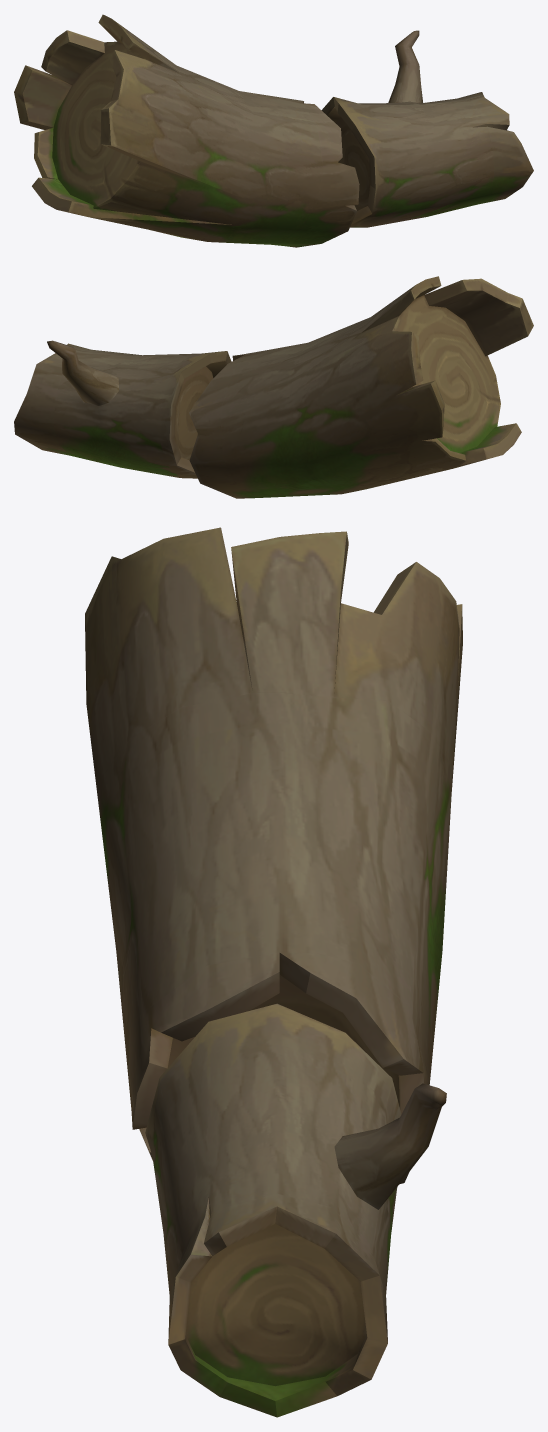
File: zw_qws_007_sm.fbx
The picture shows the model from 3 angles, top to bottom: view 1: azimuth 30°, elevation 25°; view 2: azimuth 150°, elevation 25°; view 3: azimuth 270°, elevation 25°; orthographic projection. The views are drawn at different scales.
Parts seen in each view (by area): view 1: zw_qws_007_sm; view 2: zw_qws_007_sm; view 3: zw_qws_007_sm.
Part boxes in pixels (<box>): zw_qws_007_sm: <box>14,14,533,247</box>; zw_qws_007_sm: <box>14,276,533,498</box>; zw_qws_007_sm: <box>85,527,462,1417</box>.
Bounding box in the file's own units: 701 × 373 × 247.
